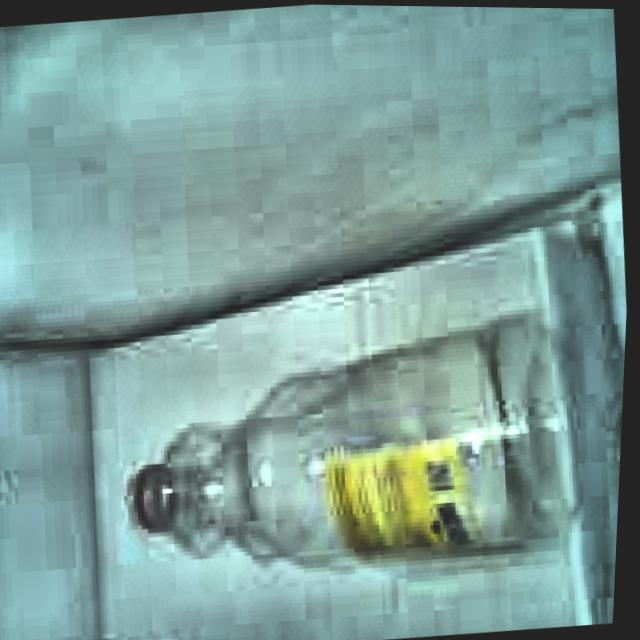Bottles: (91, 292, 630, 596)
